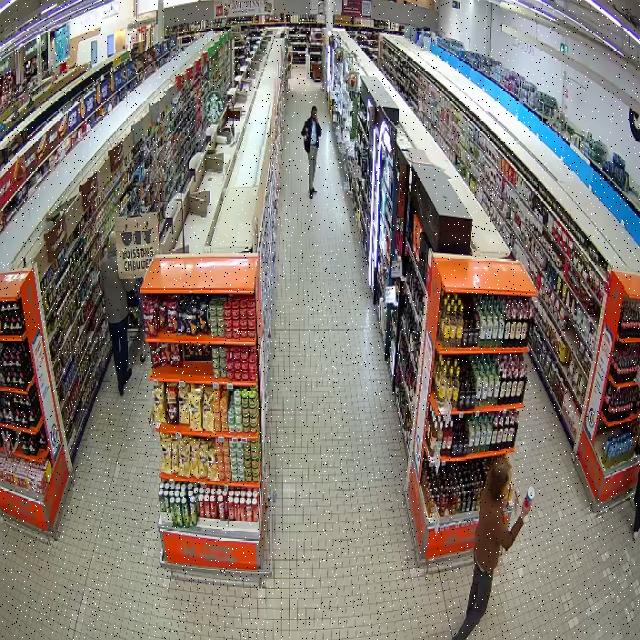article: (524, 486, 535, 508), (304, 131, 308, 145)
hands: (520, 503, 531, 520), (305, 127, 308, 132)
person: (453, 459, 531, 639), (300, 106, 321, 198)
